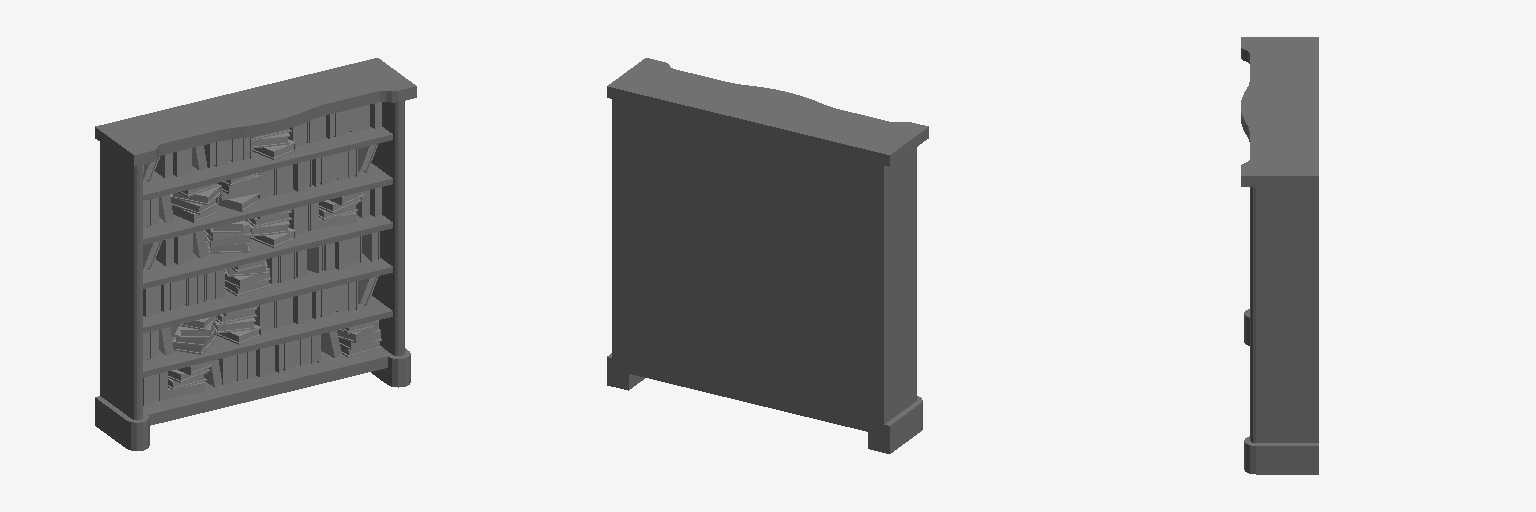
File: bookshelf.obj
The picture shows the model from 3 angles: view 1: azimuth 30°, elevation 25°; view 2: azimuth 150°, elevation 25°; view 3: azimuth 270°, elevation 25°; orthographic projection.
Parts seen in each view (by area): view 1: Cylinder005_Mesh, Object001_Mesh.001; view 2: Cylinder005_Mesh; view 3: Cylinder005_Mesh.
Boxes of the visible parts, box(x1,y1,x2,y2) form: Cylinder005_Mesh: box(95, 58, 416, 450); Object001_Mesh.001: box(143, 102, 381, 405); Cylinder005_Mesh: box(607, 58, 928, 453); Cylinder005_Mesh: box(1241, 37, 1318, 474).
Bounding box in the file's own units: 2.55 × 2.57 × 0.6125.